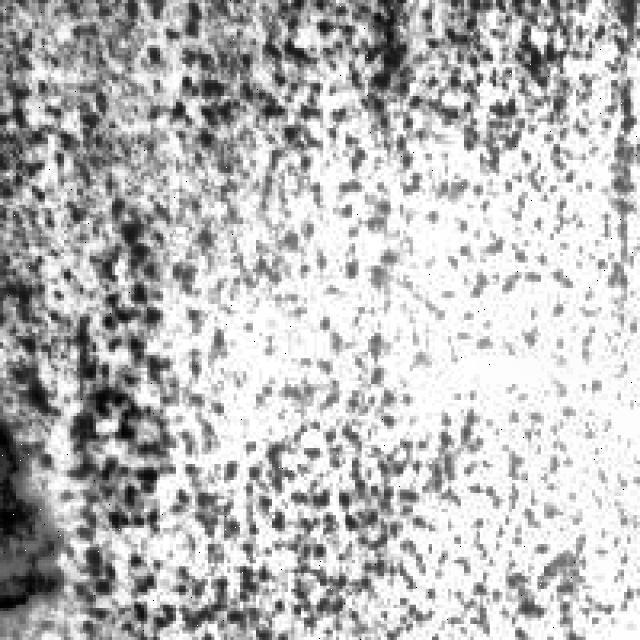Rolled_in_Scale: (71, 0, 640, 630)
Scratches: (4, 410, 70, 614)
